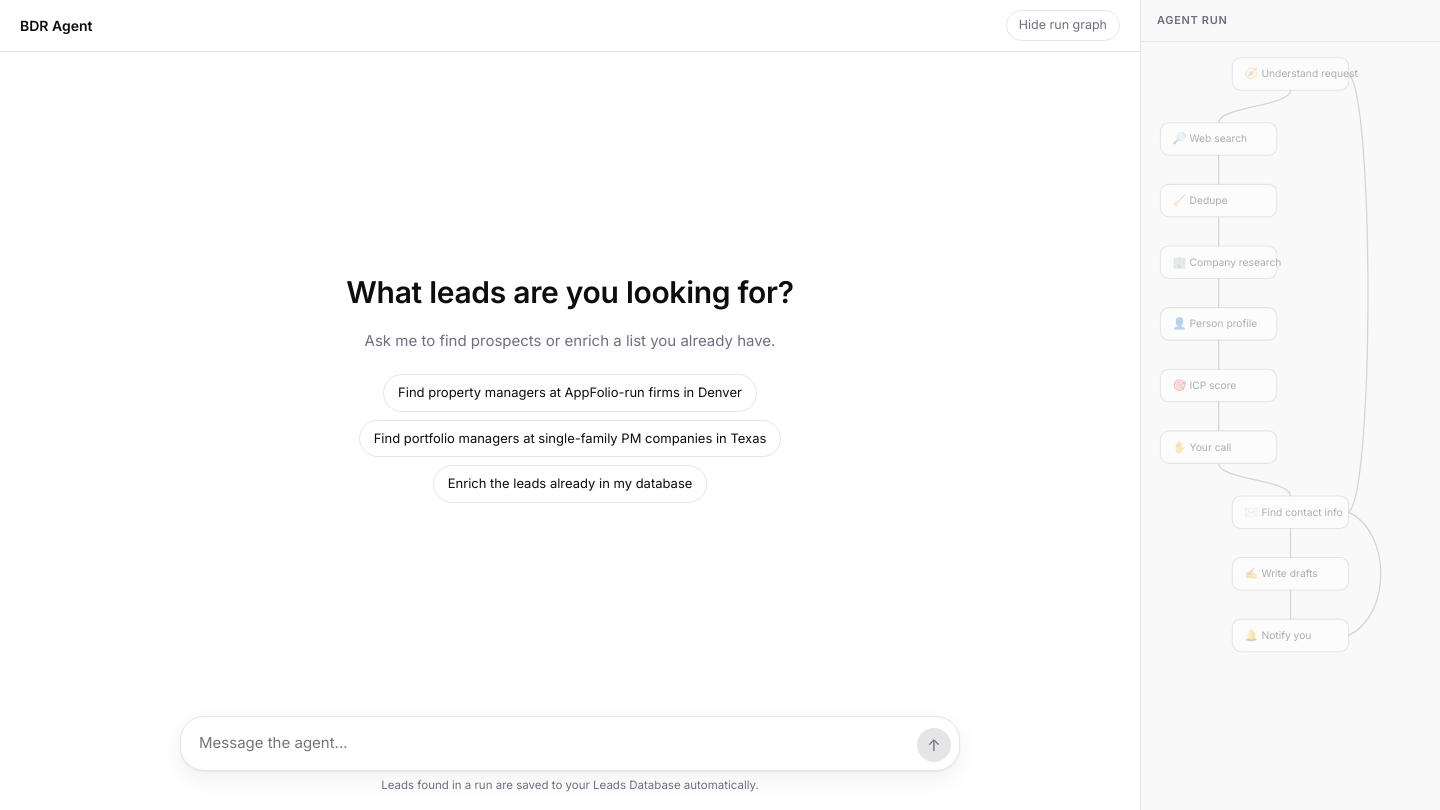
Test: Chat page › surfaces an error message when the backend is unreachable
The image size is (1440, 810).
Step 1. Type "find VPs" into the text box with placeholder "Message the agent..." → (554, 744), box [199, 725, 909, 762]
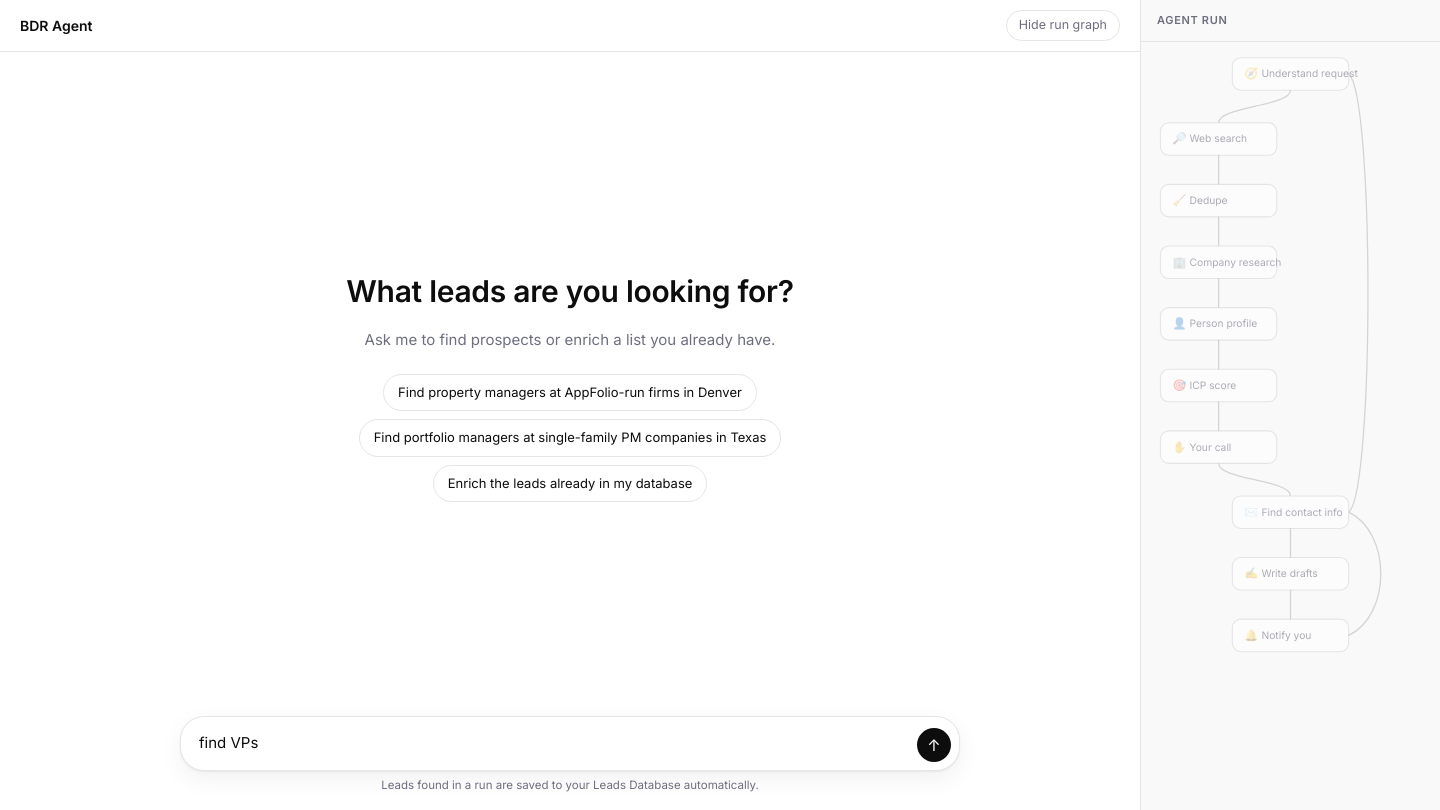
Step 2. Click the button named "Send" → (934, 745), box [917, 728, 951, 762]
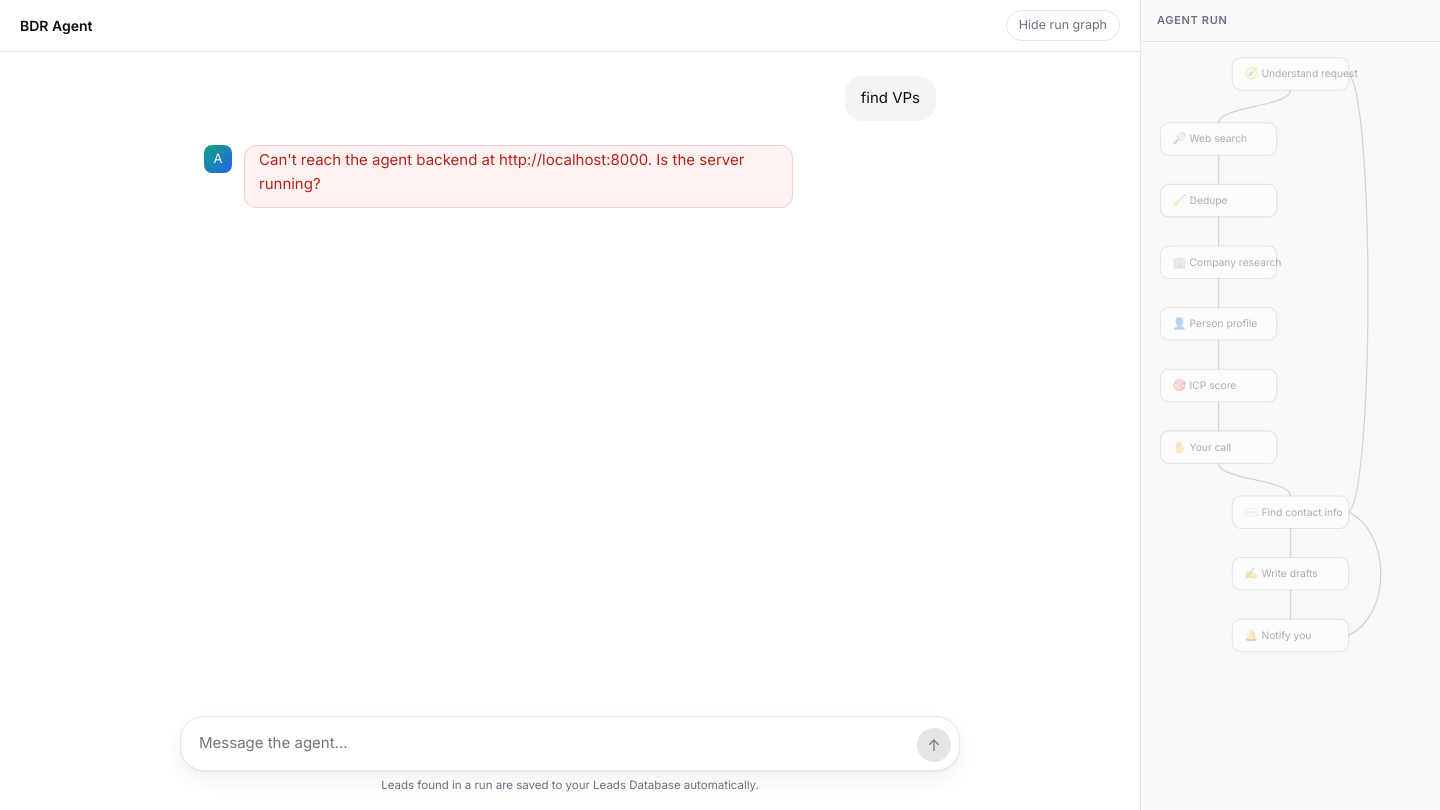
Expected: the text box with placeholder "Message the agent..." is shown, [199, 725, 909, 762]
Now the text "Can't reach the agent backend" is shown, box [259, 150, 748, 193]
